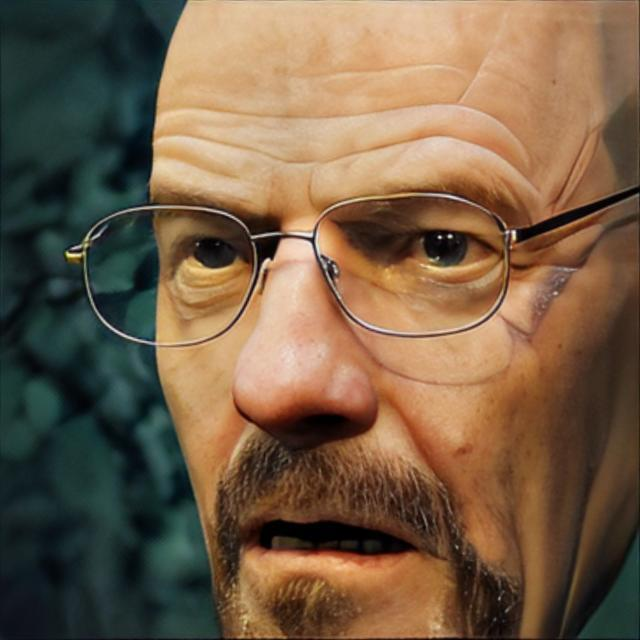anger: (146, 75, 570, 640)
